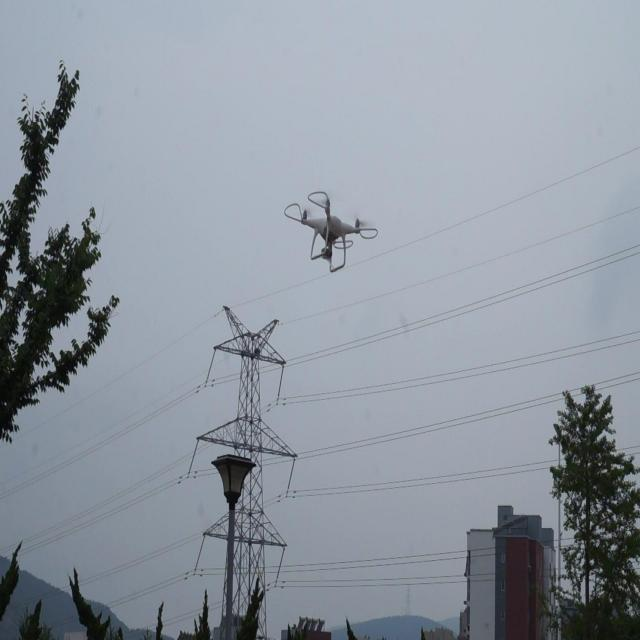UAV: (284, 190, 378, 273)
